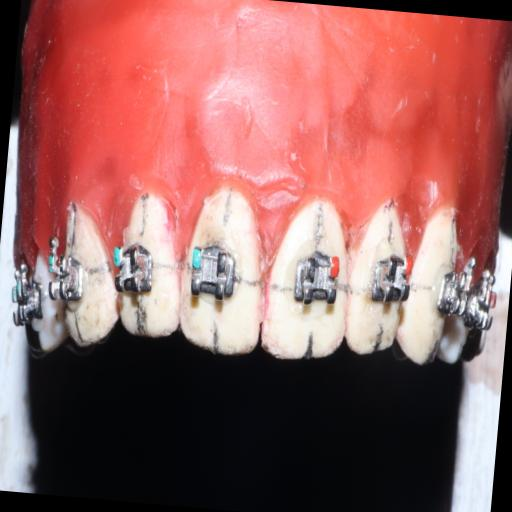incorrect_brace: (286, 242, 347, 314), (182, 235, 243, 306)
